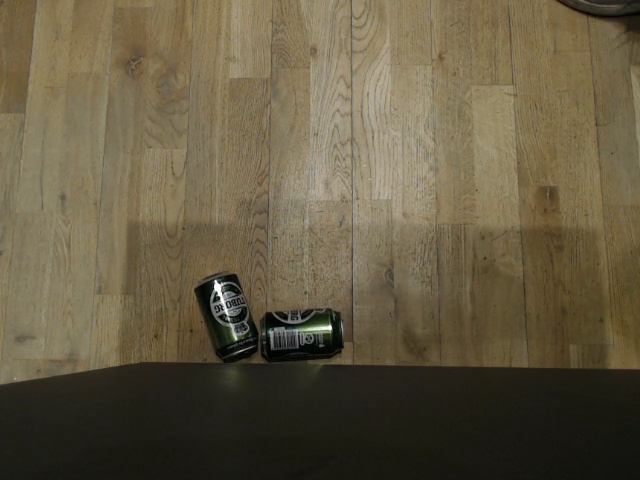beer: (193, 270, 258, 362), (260, 309, 343, 363)
